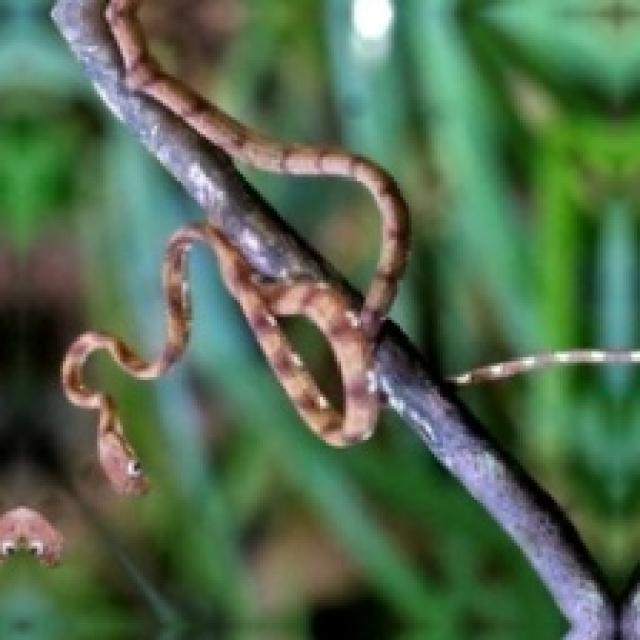philippine blunt-headed catsnake: (60, 0, 406, 491)
